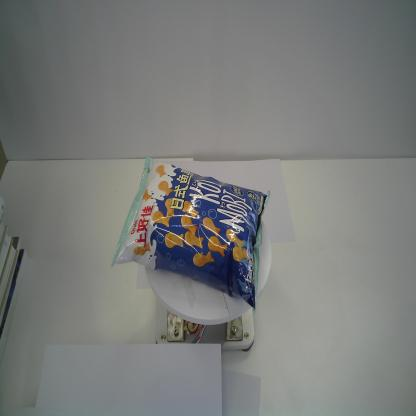Puffed Food: (110, 155, 272, 314)
